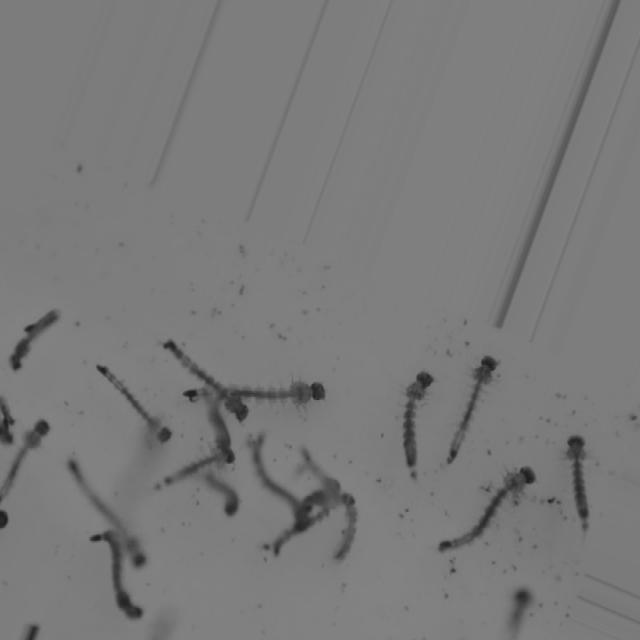larvas: (66, 457, 152, 573), (165, 326, 253, 429), (440, 463, 535, 554), (94, 353, 175, 447), (86, 522, 147, 629), (448, 353, 493, 463), (0, 411, 52, 501), (253, 442, 300, 511), (400, 369, 431, 468), (272, 508, 334, 554), (11, 306, 56, 366), (237, 380, 323, 404), (169, 452, 232, 481), (568, 436, 588, 526), (208, 398, 232, 457), (306, 451, 336, 495), (341, 490, 356, 557), (210, 482, 238, 515), (513, 588, 528, 630), (0, 394, 13, 441)
